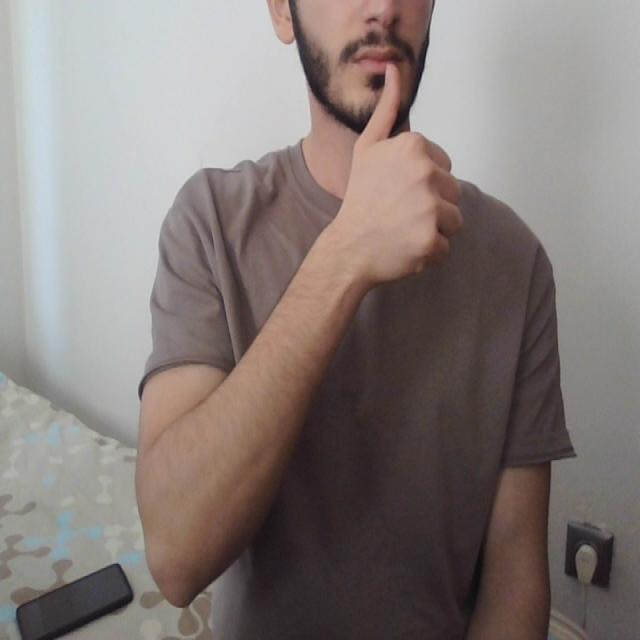Baba: (350, 27, 408, 130)
